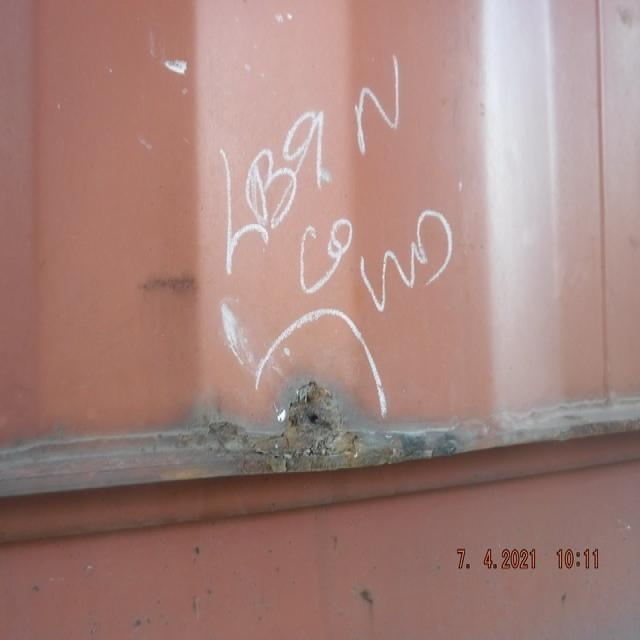hole: (211, 380, 359, 470)
